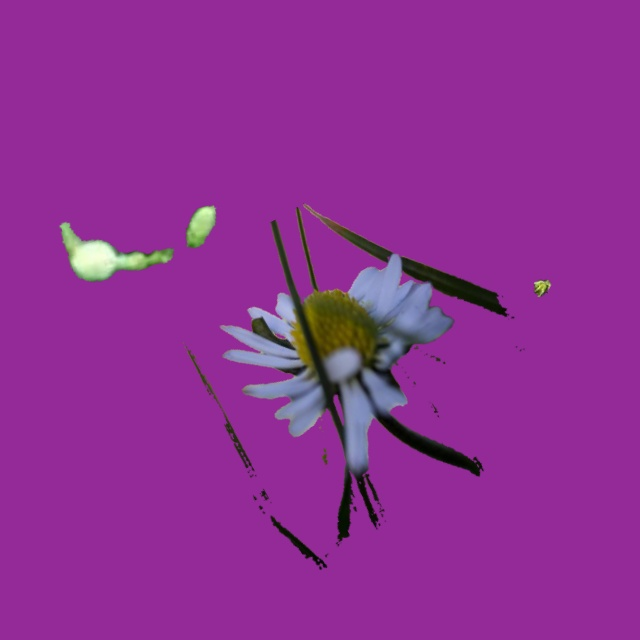daisy: (185, 204, 520, 569)
jasmine: (60, 205, 215, 281)
ylang-ylang: (534, 280, 550, 296)
